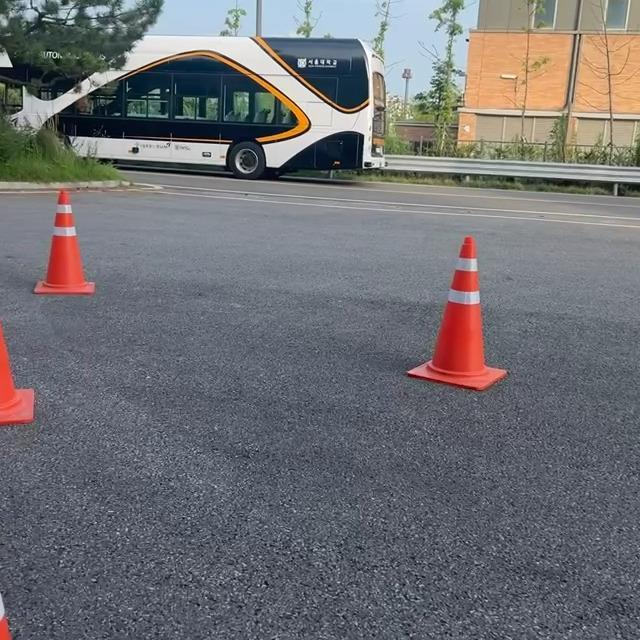fallen_object: (328, 231, 548, 395), (8, 139, 168, 313), (0, 537, 73, 640), (0, 304, 52, 436)
